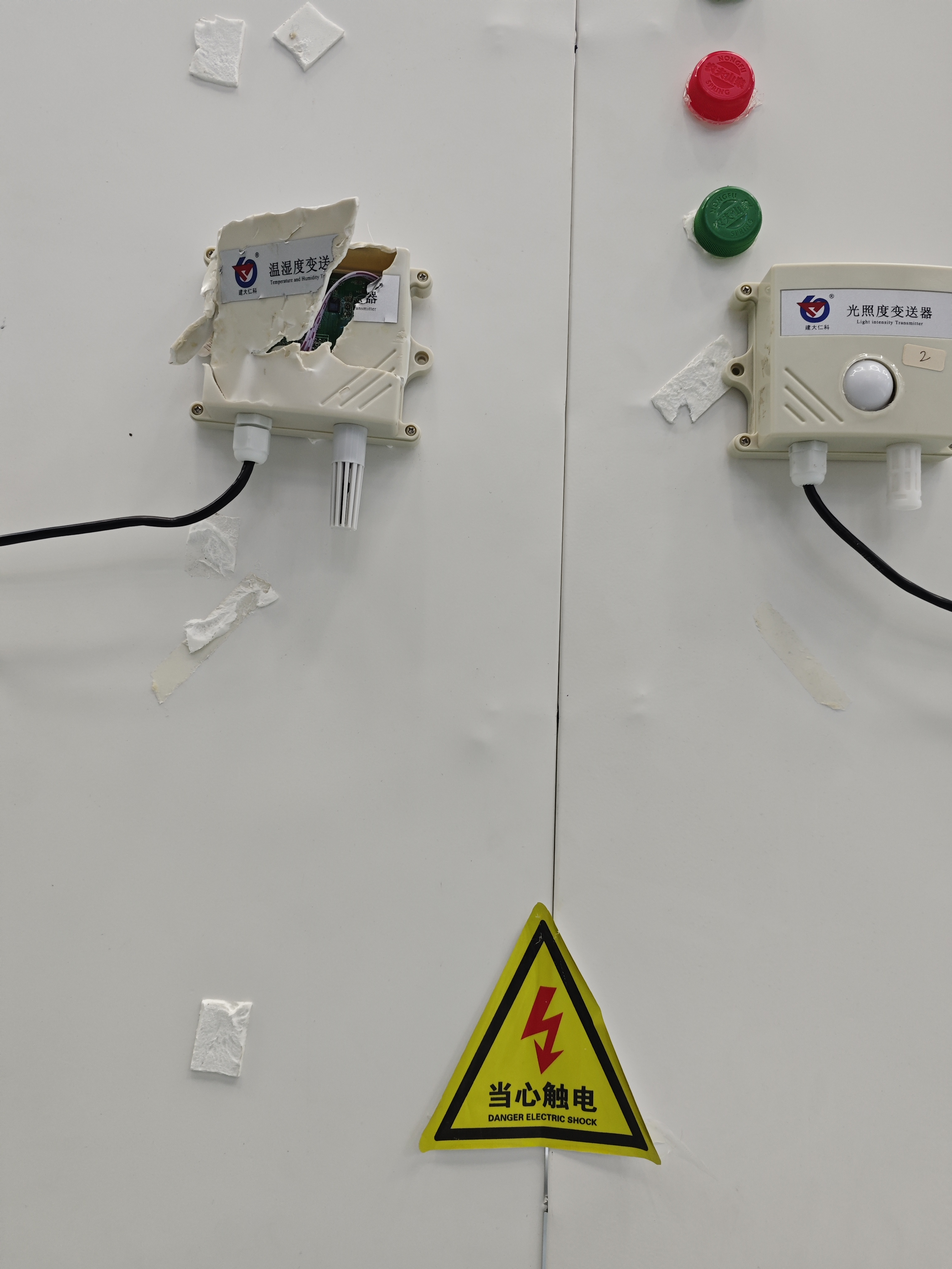red_warning: (669, 37, 782, 147)
sensor_damage: (149, 168, 443, 562)
